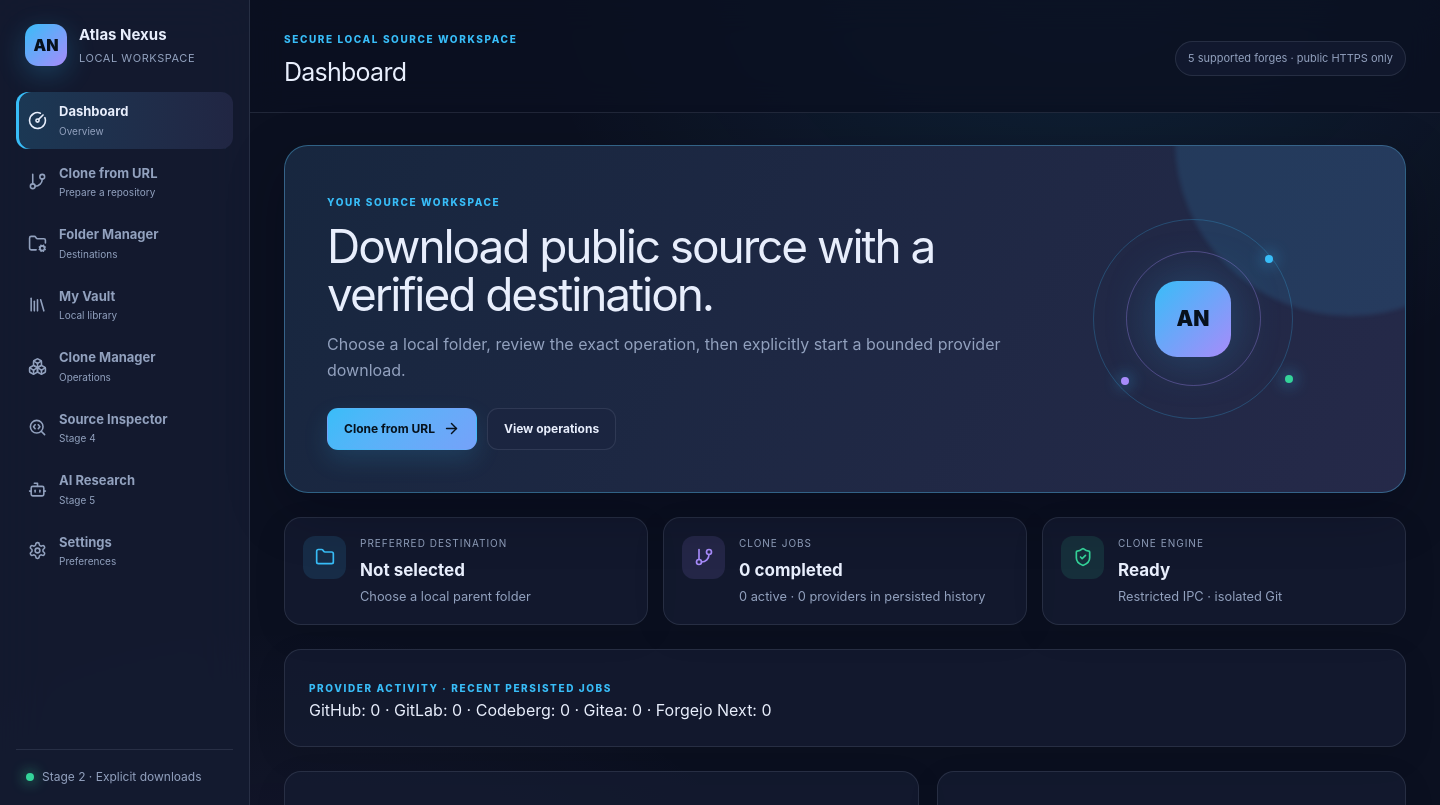
Test: App navigation and honest states › navigates to a clearly marked unimplemented page
Step 1. Click the button "AI Research Stage 5" → (124, 489), box [16,461,233,518]
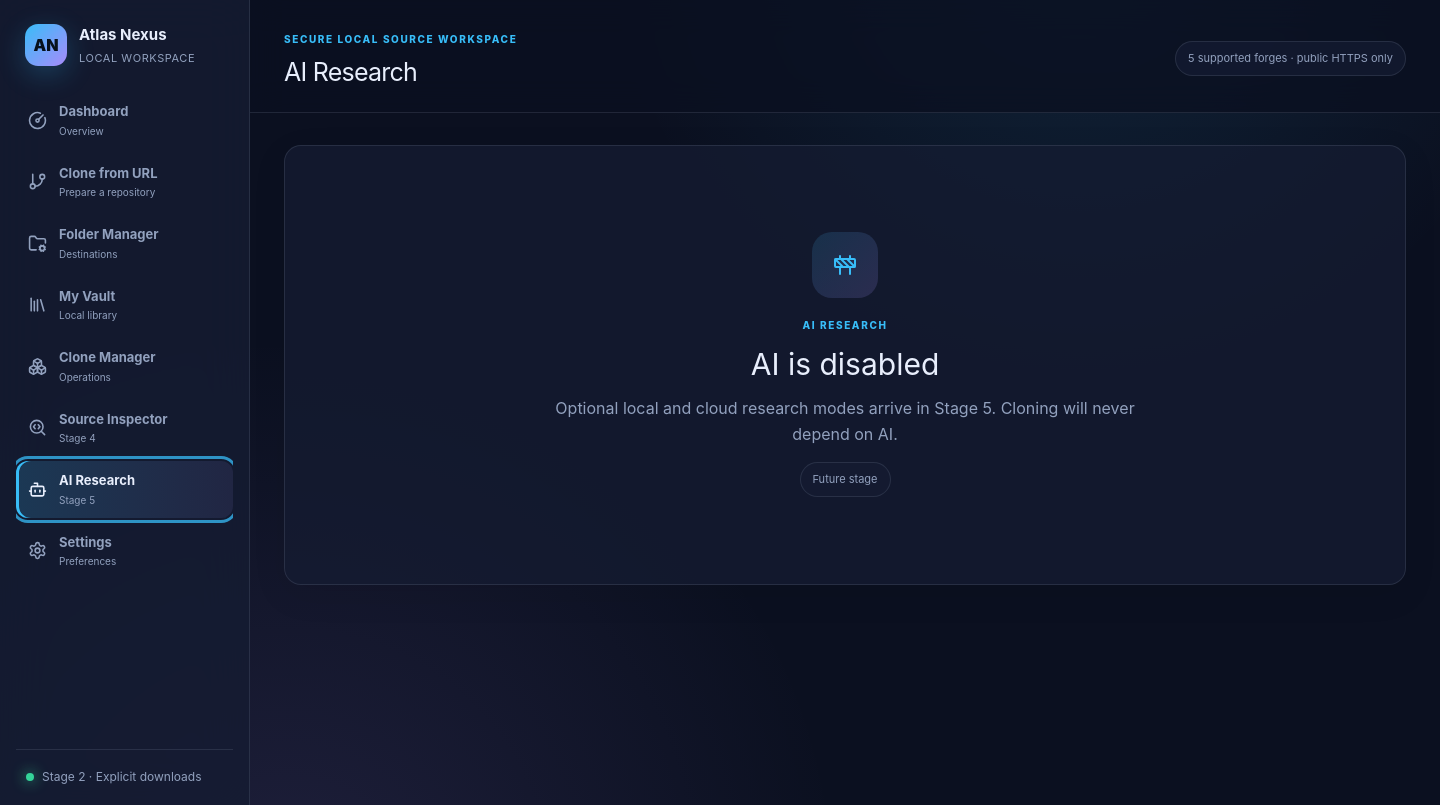
Check: the heading "AI is disabled" is shown, box [751,342,939,387]
Check: the text "Future stage" is shown, box [800,462,890,497]
